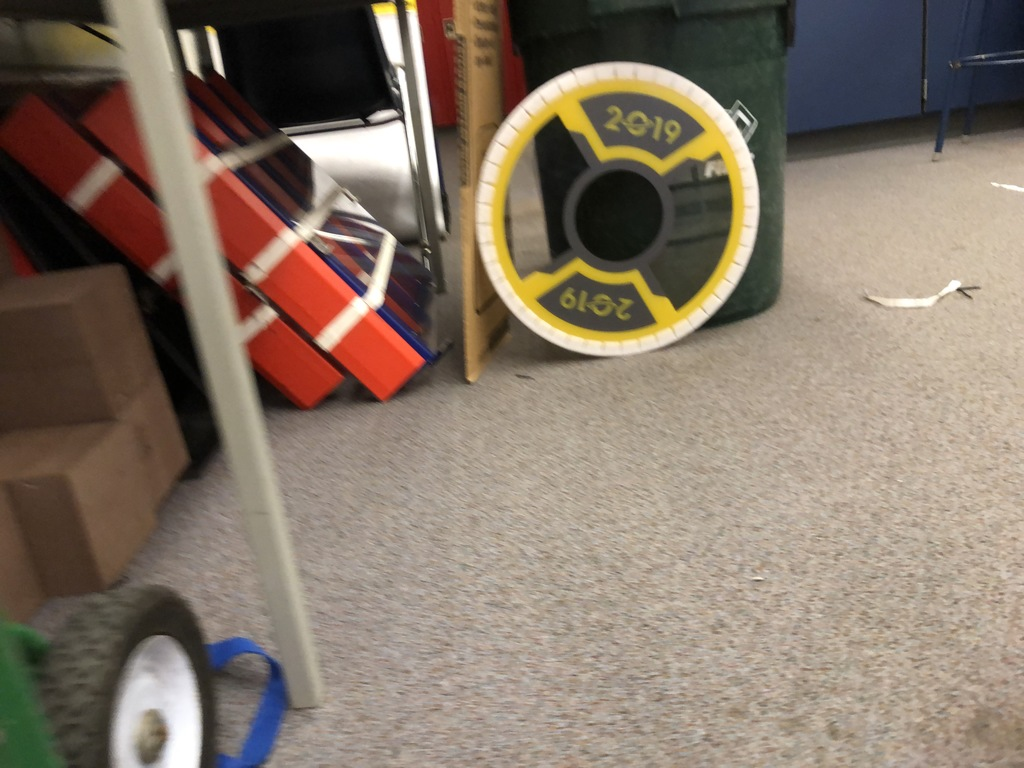hatch_panel: (454, 60, 752, 379)
